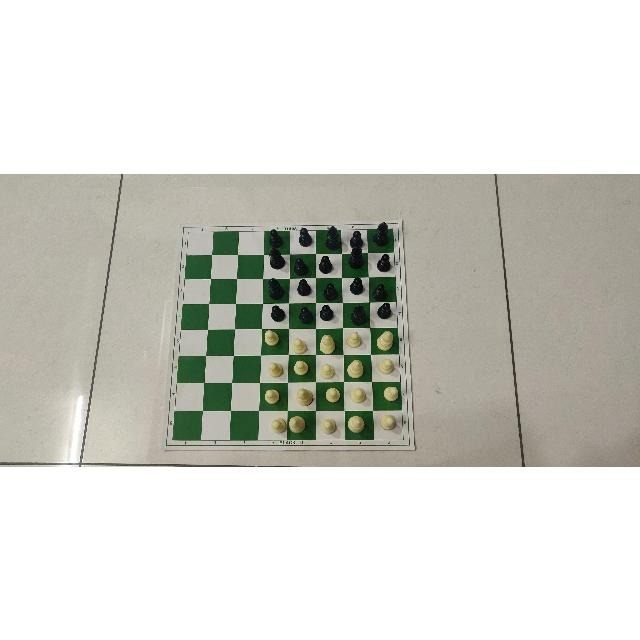black-bishop: (372, 219, 392, 249), (344, 302, 369, 326), (346, 244, 368, 271), (264, 275, 287, 300), (266, 246, 288, 271), (323, 224, 341, 251)
black-pawn: (291, 303, 315, 325), (371, 274, 390, 300), (344, 227, 367, 248), (319, 276, 340, 299), (291, 227, 315, 247), (265, 228, 288, 248), (268, 303, 288, 326), (294, 278, 313, 300), (348, 275, 366, 298), (317, 253, 337, 273), (370, 252, 391, 271), (373, 300, 392, 321), (292, 255, 309, 277), (318, 302, 335, 321)
white-bishop: (289, 383, 315, 409), (347, 355, 371, 379), (317, 328, 340, 353), (346, 410, 369, 435), (374, 327, 397, 351), (288, 411, 310, 436)
white-pawn: (261, 383, 287, 409), (347, 383, 373, 409), (376, 412, 402, 438), (290, 355, 316, 380), (261, 355, 286, 380), (319, 355, 343, 381), (373, 354, 400, 377), (319, 383, 343, 408), (261, 412, 286, 436), (377, 382, 400, 408), (291, 329, 315, 353), (345, 328, 368, 353), (263, 329, 287, 352), (318, 411, 341, 434)
